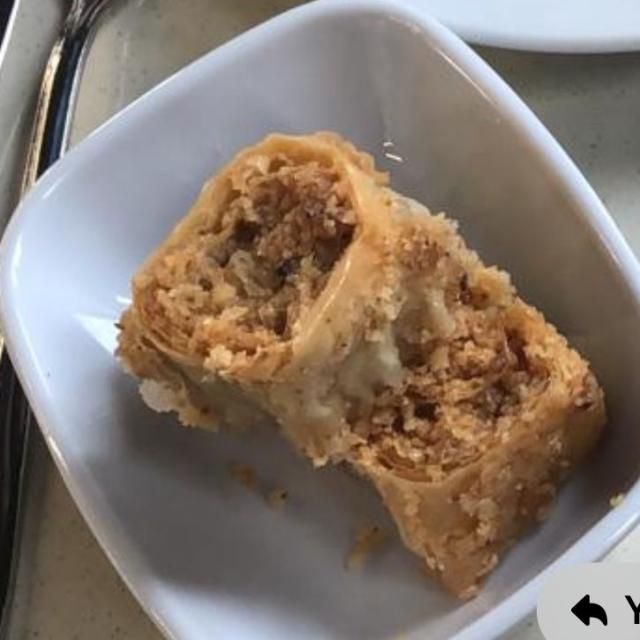yan_yemek: (112, 128, 609, 602)
